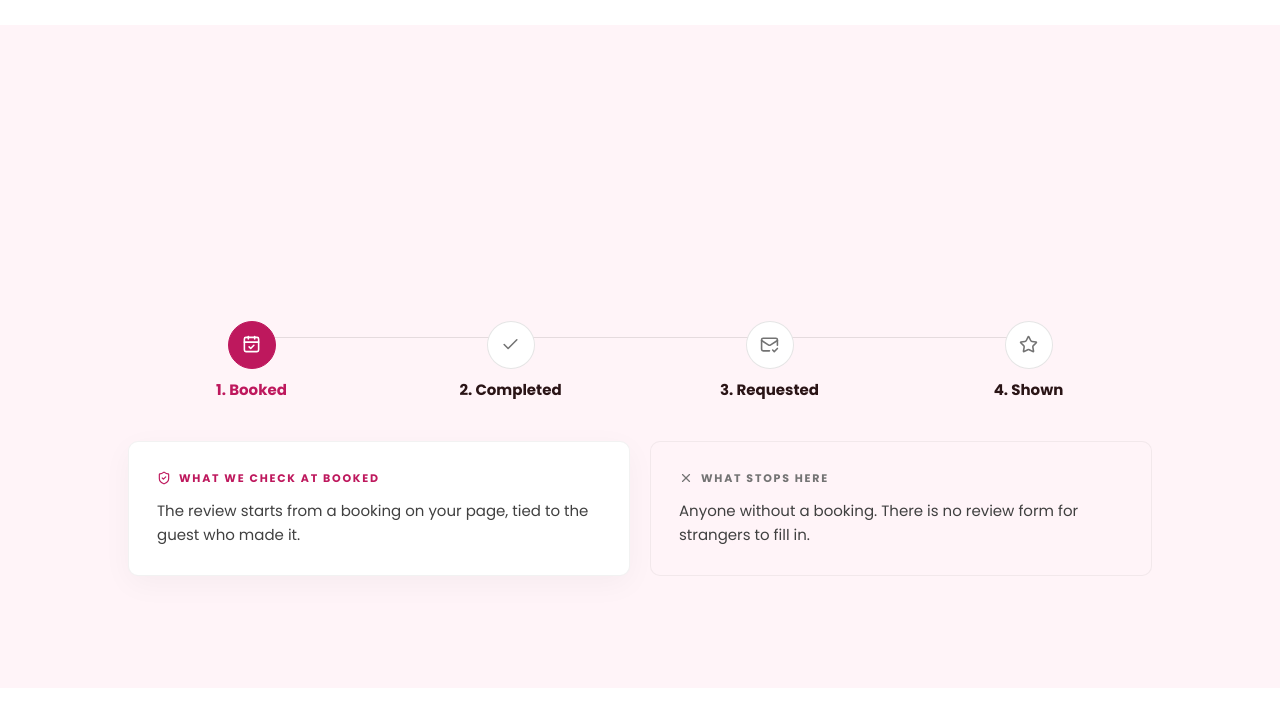
Test: Reviews feature page › switches the verification stage on click
(page scrolled)
What coordinates should you click on to do the following:
click the button "2. Completed"
I would click on:
 (510, 361)
Its box is [387, 313, 634, 409].
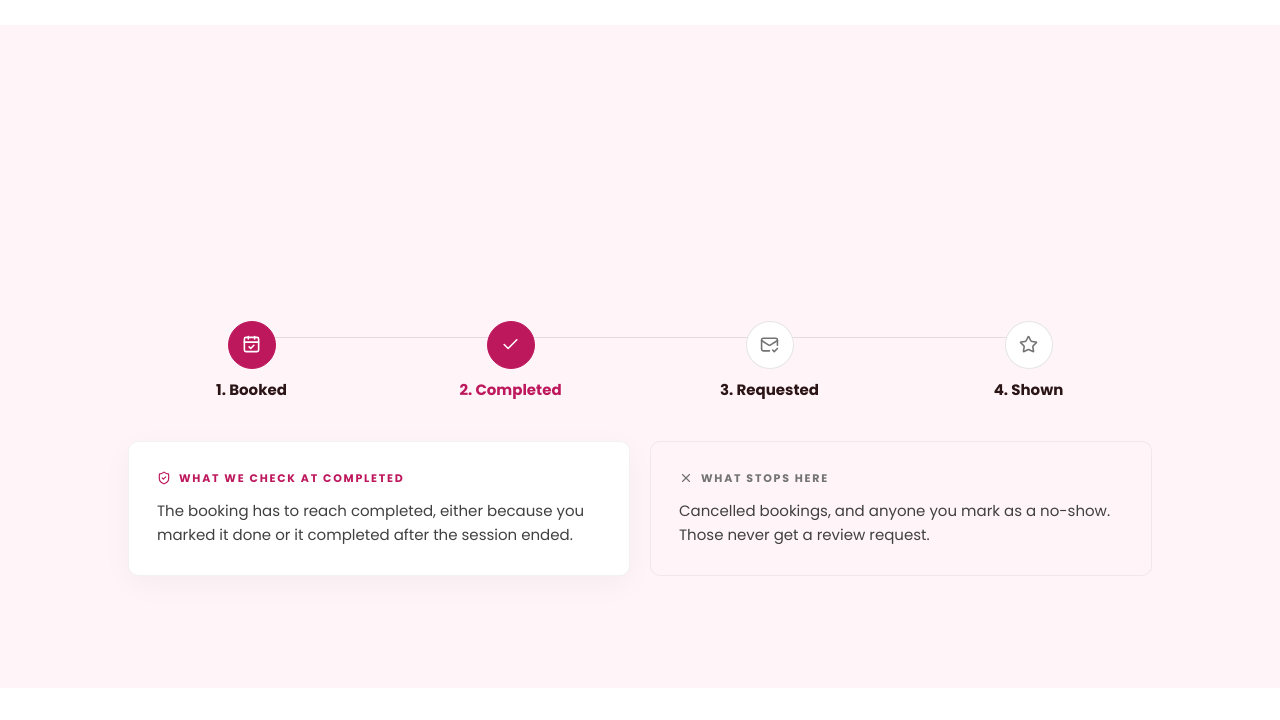
Result: the text "anyone you mark as a no-show" is shown at [679, 500, 1110, 545]
